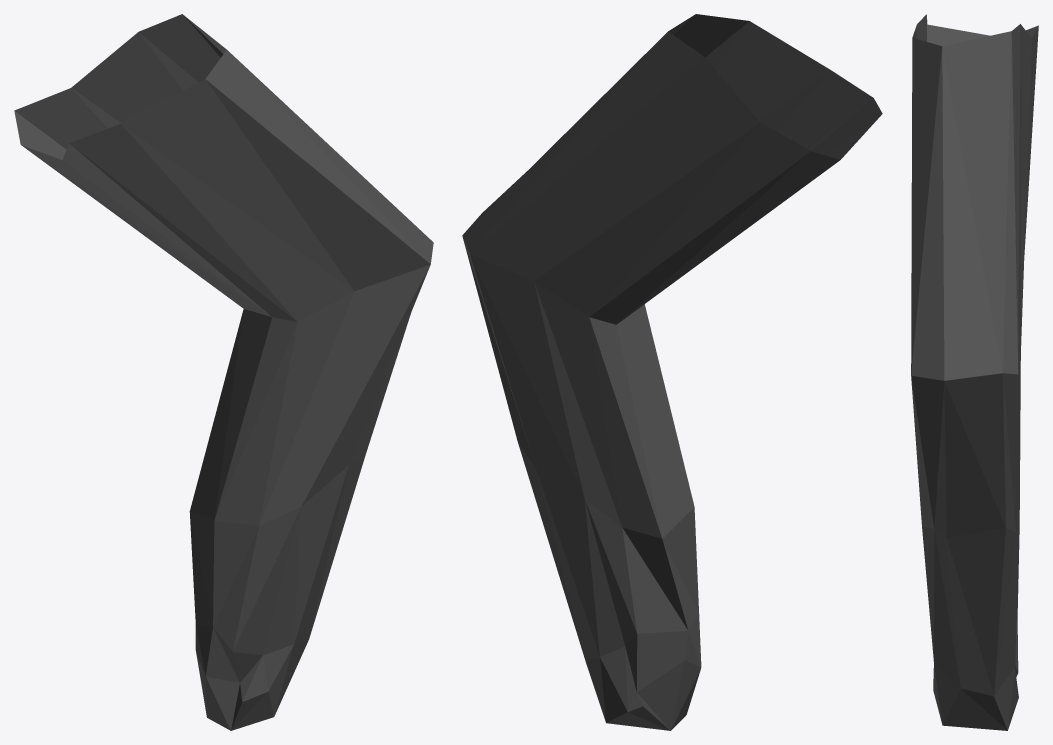
File: Harpoon_Trigger_002.fbx
3 renders of one model, left to right at view 1: azimuth 30°, elevation 25°; view 2: azimuth 150°, elevation 25°; view 3: azimuth 270°, elevation 25°, orthographic. The views are drawn at different scales.
Parts seen in each view (by area): view 1: Harpoon_Trigger_002; view 2: Harpoon_Trigger_002; view 3: Harpoon_Trigger_002.
Boxes of the visible parts, x1,y1,x2,y2 form: Harpoon_Trigger_002: (14, 14, 433, 730); Harpoon_Trigger_002: (462, 14, 882, 730); Harpoon_Trigger_002: (911, 14, 1038, 730).
Bounding box in the file's own units: 0.0299 × 0.0522 × 0.00896.
